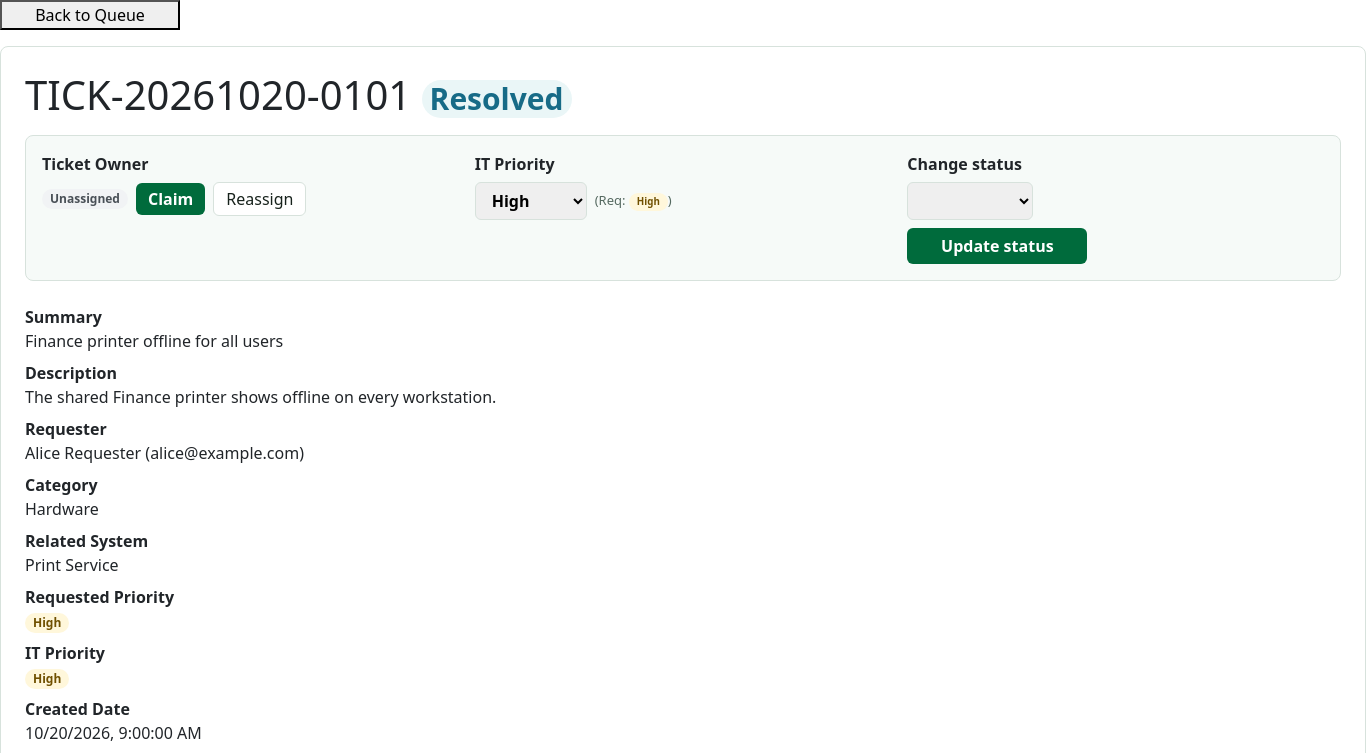
Scenario: Ticket workflow UI (UI-11 … UI-17) › UI-12: Resolved → Reopened asks for confirmation naming both statuses and sends nothing until confirmed
The image size is (1366, 753).
Expected: the heading "TICK-20261020-0101 Resolved" is shown, 25,67 -> 572,122
Step 1. Select "Reopened" in the dropdown labelled "Change status" → (970, 201), box 907,182 -> 1033,220
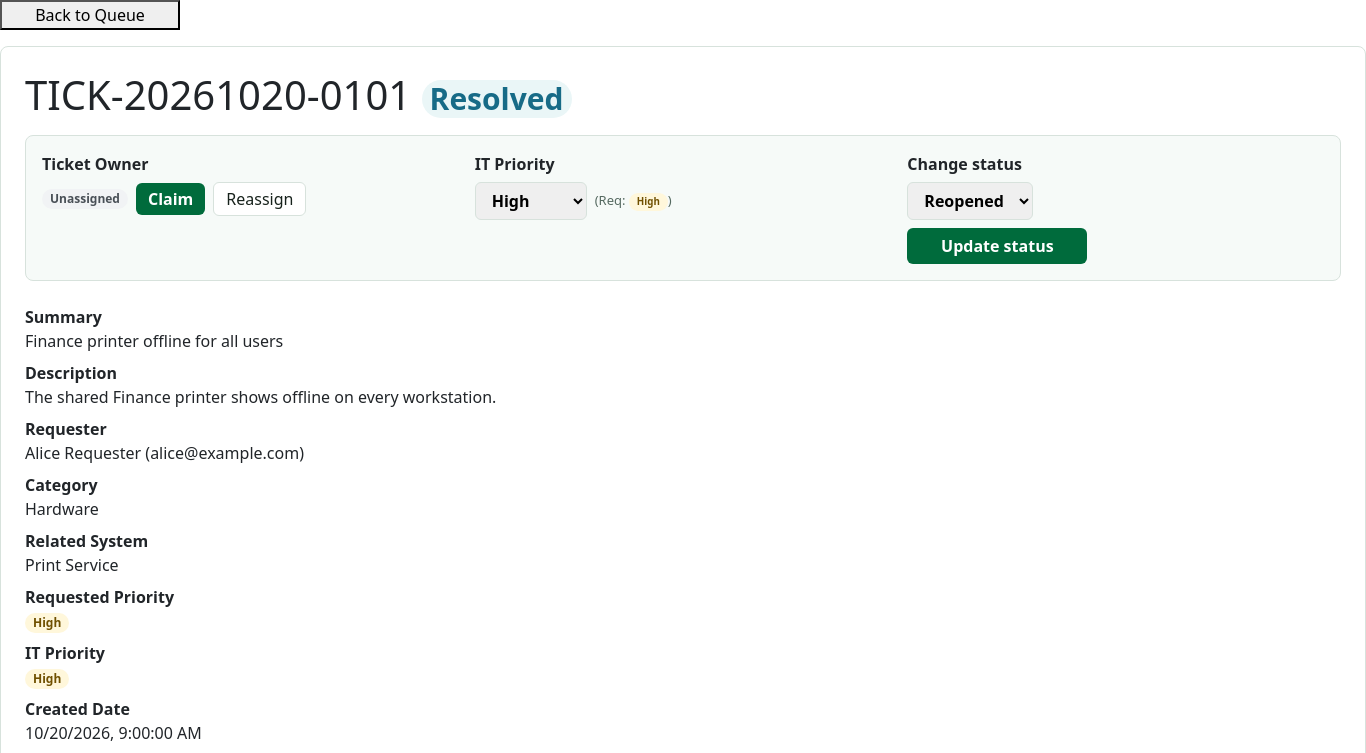
Step 2. Click the button "Update status" → click(997, 246), box 907,228 -> 1087,264
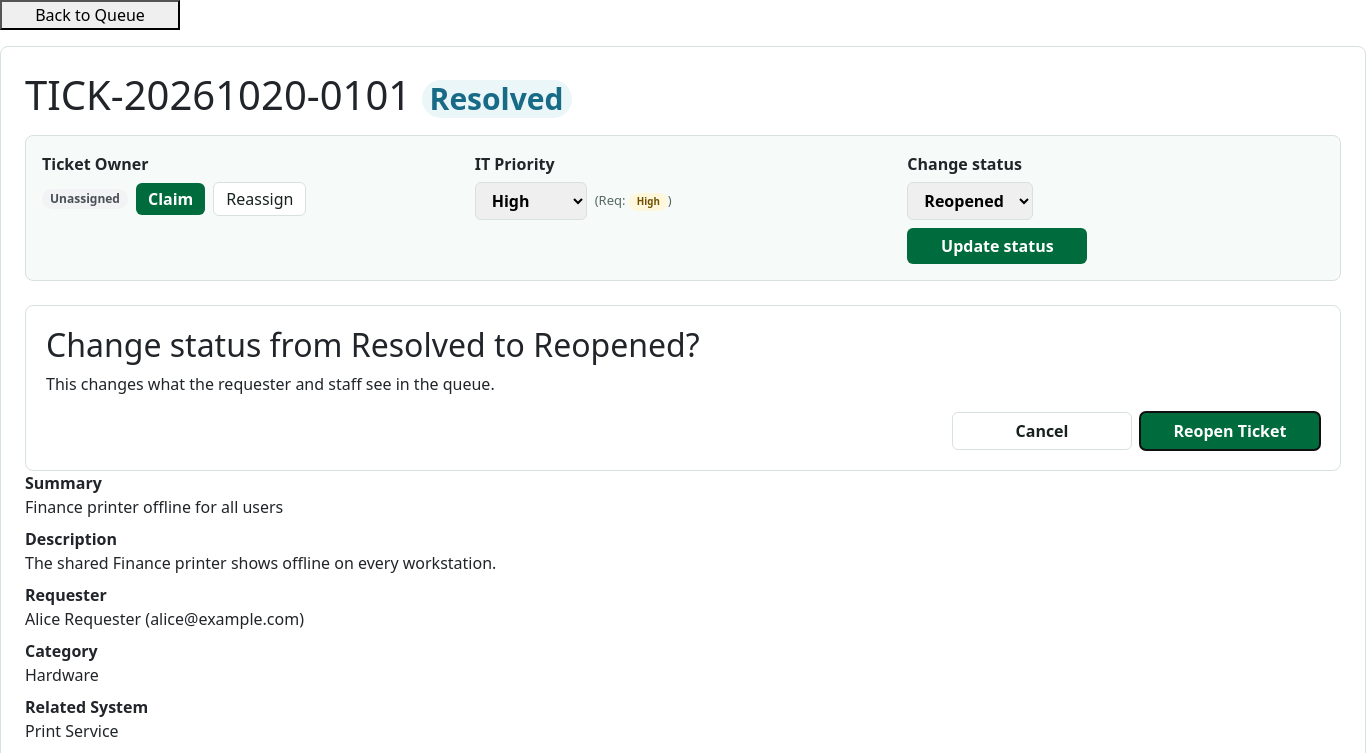
Step 3. Click the button "Cancel" → click(1042, 431), box 952,412 -> 1132,450
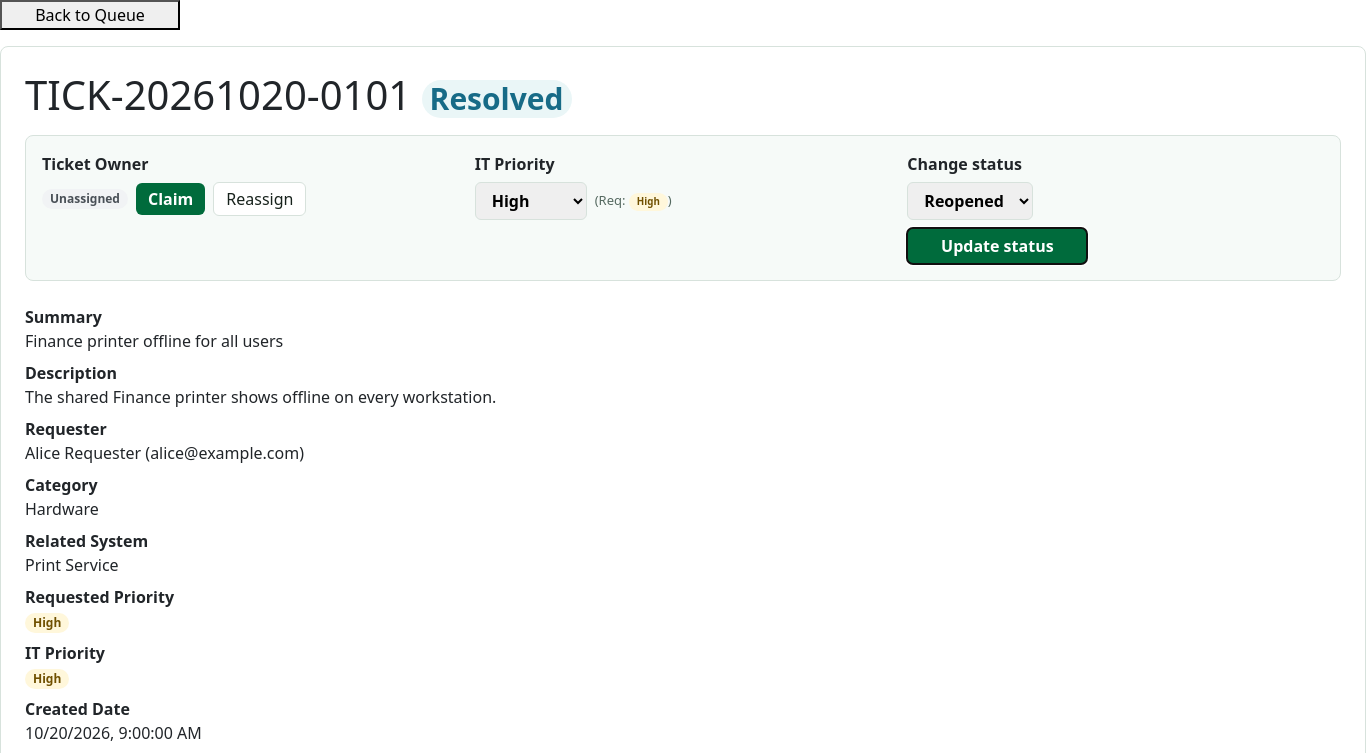
Now the dialog is gone
Step 4. Click the button "Update status" → click(997, 246), box 907,228 -> 1087,264
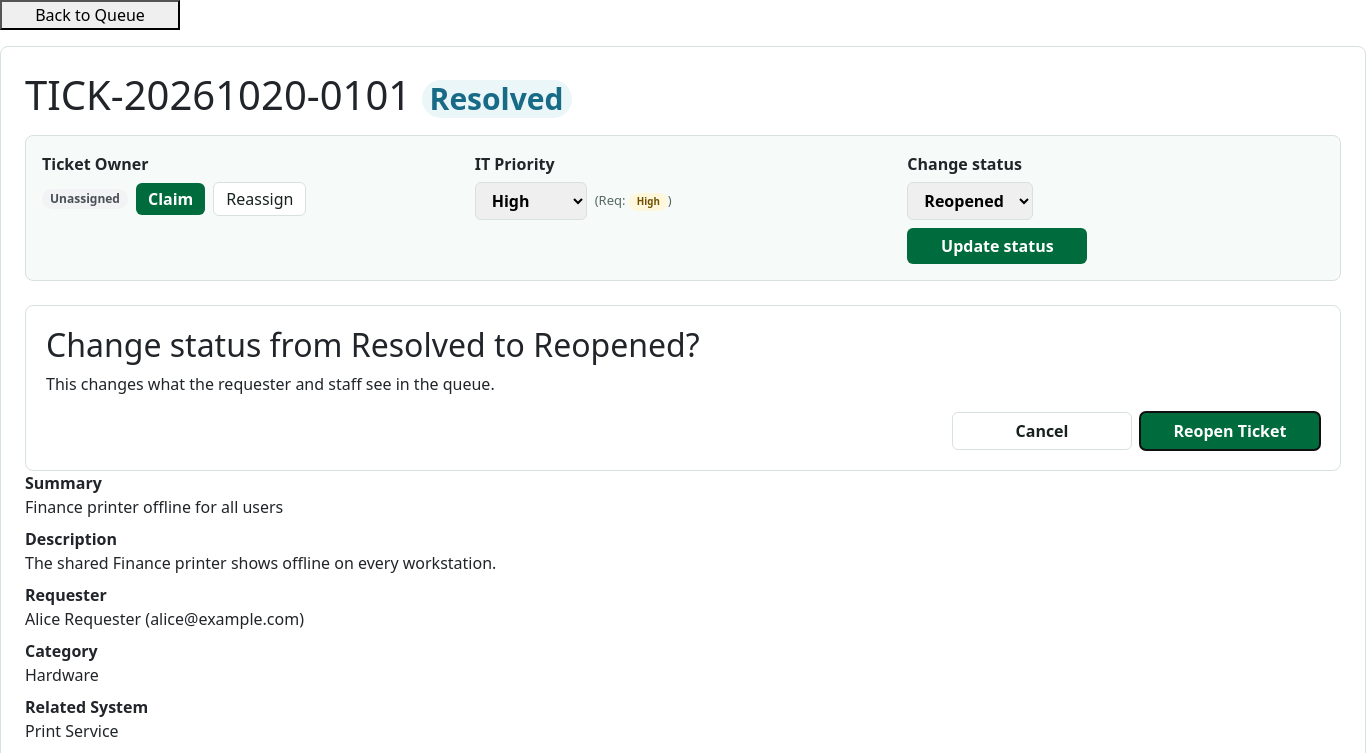
Step 5. Click the button "Reopen Ticket" → click(1230, 431), box 1140,412 -> 1320,450
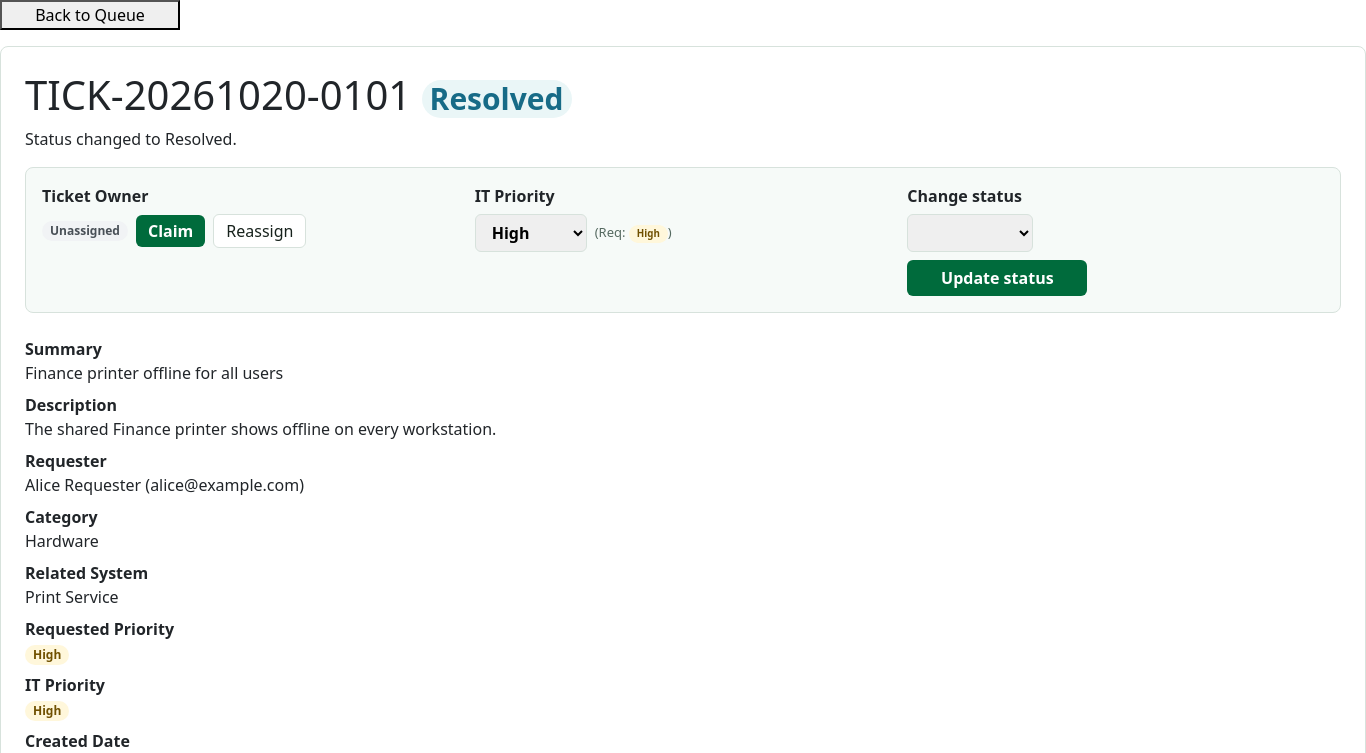
Now the dialog is gone
